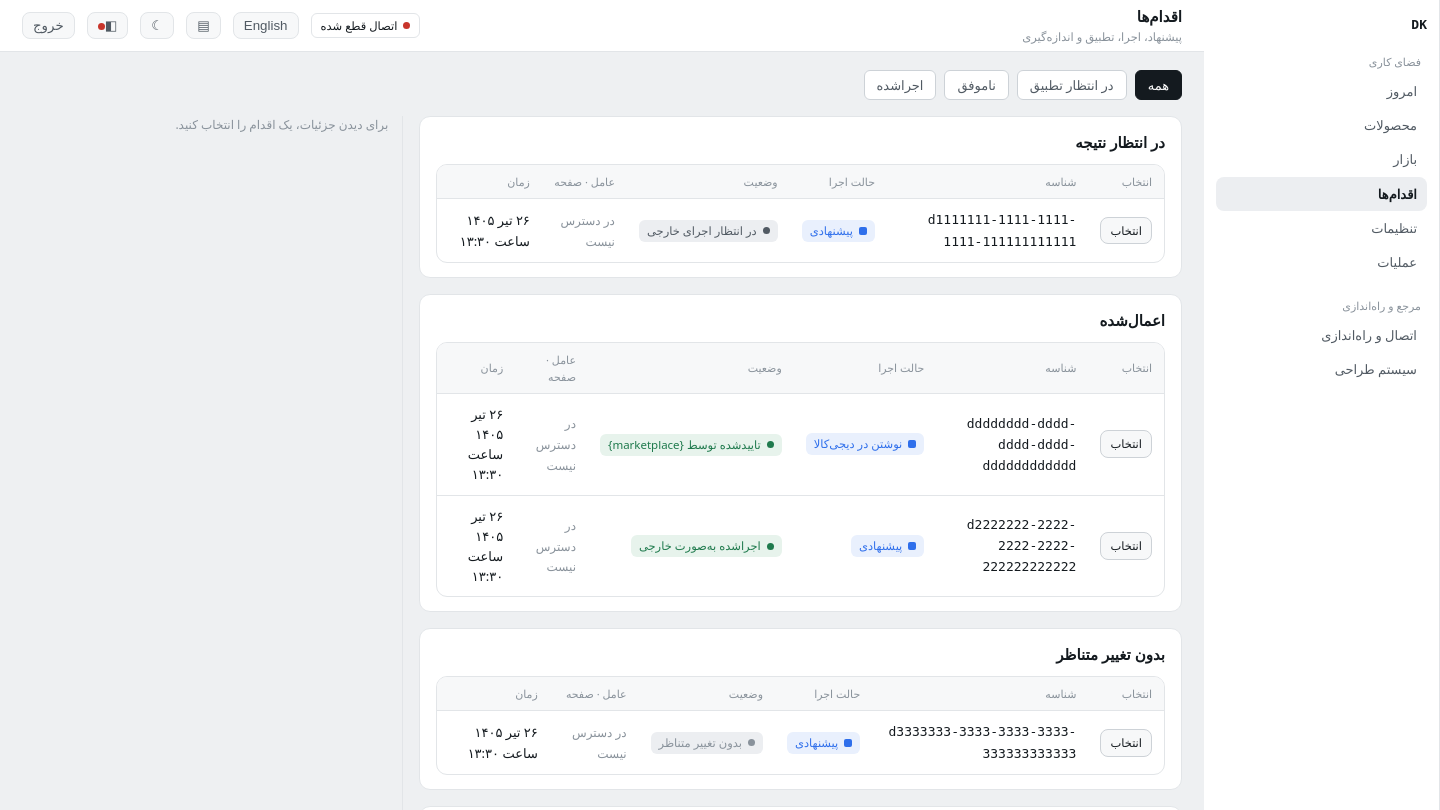
Actions — multi-mode queue discovery (issue #106) › opens the outcome window for an externally-executed action, matched on (actionId, cardId)
Step 1. Click the button "انتخاب" below "d2222222-2222-2222-2222-222222222222" → (1126, 546), box [1100,532,1152,560]
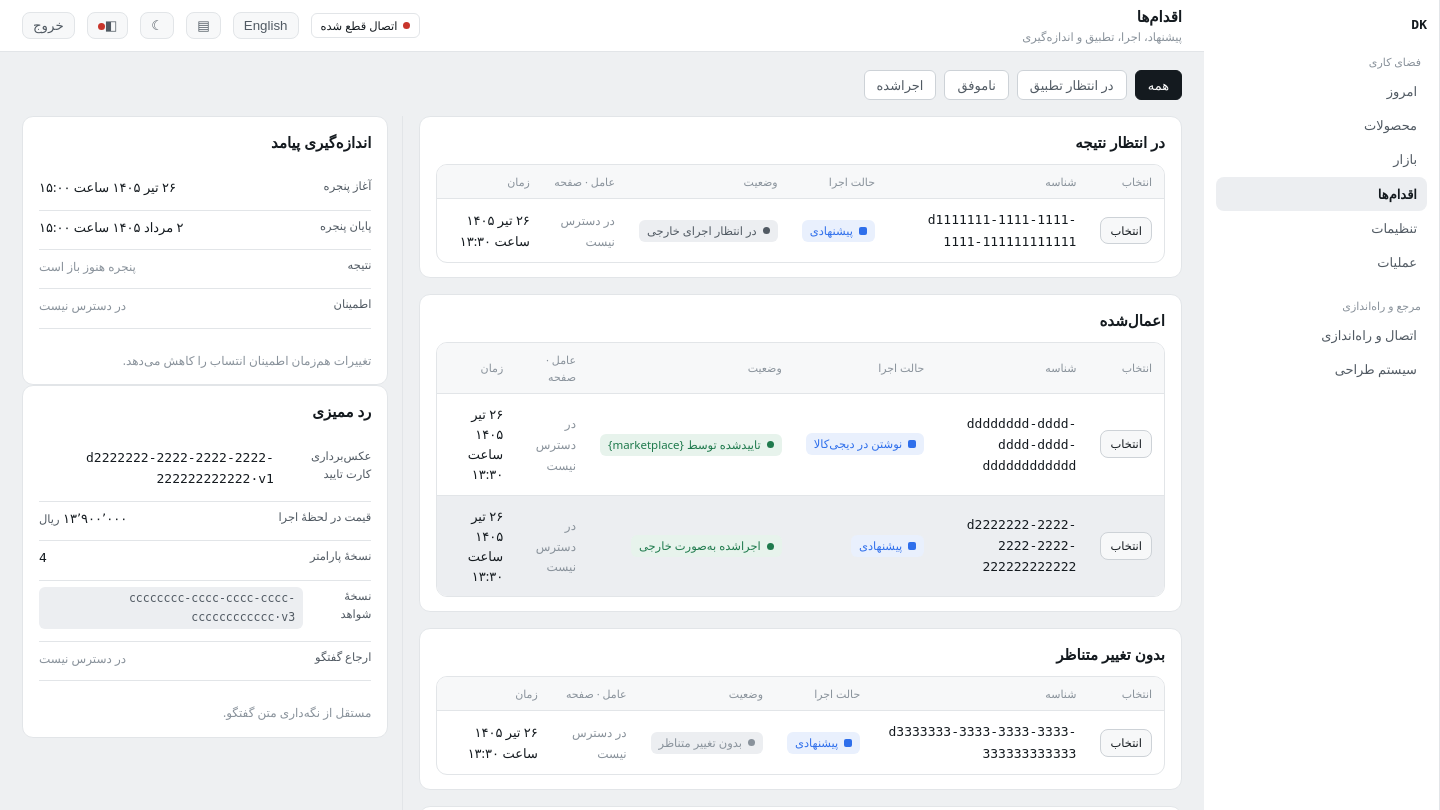
Expected: the element with test id "outcome-window" is shown, [39,177,371,329]
